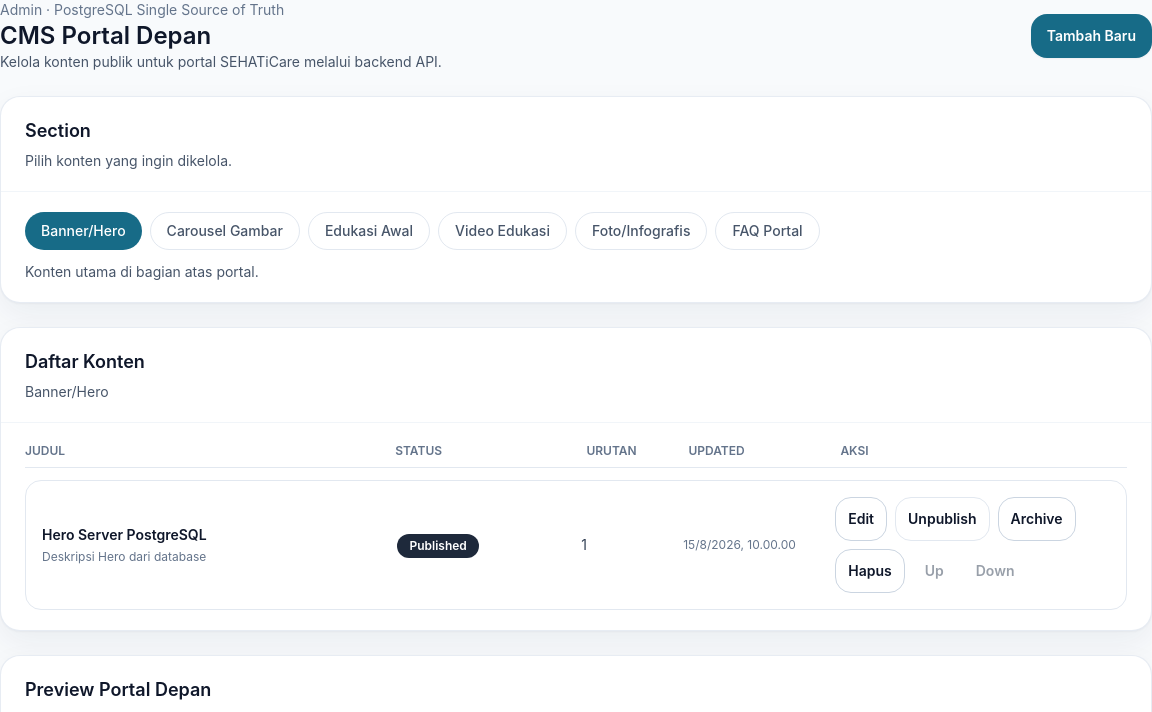
Test: AdminPortalPage Centralized CMS › creates new portal item through backend POST endpoint
Expected: the text "Hero Server PostgreSQL" is shown, [42,526,207,543]
# Click Tambah Baru
Click the button "Tambah Baru" at (1091, 36), box [1031,14,1151,58]
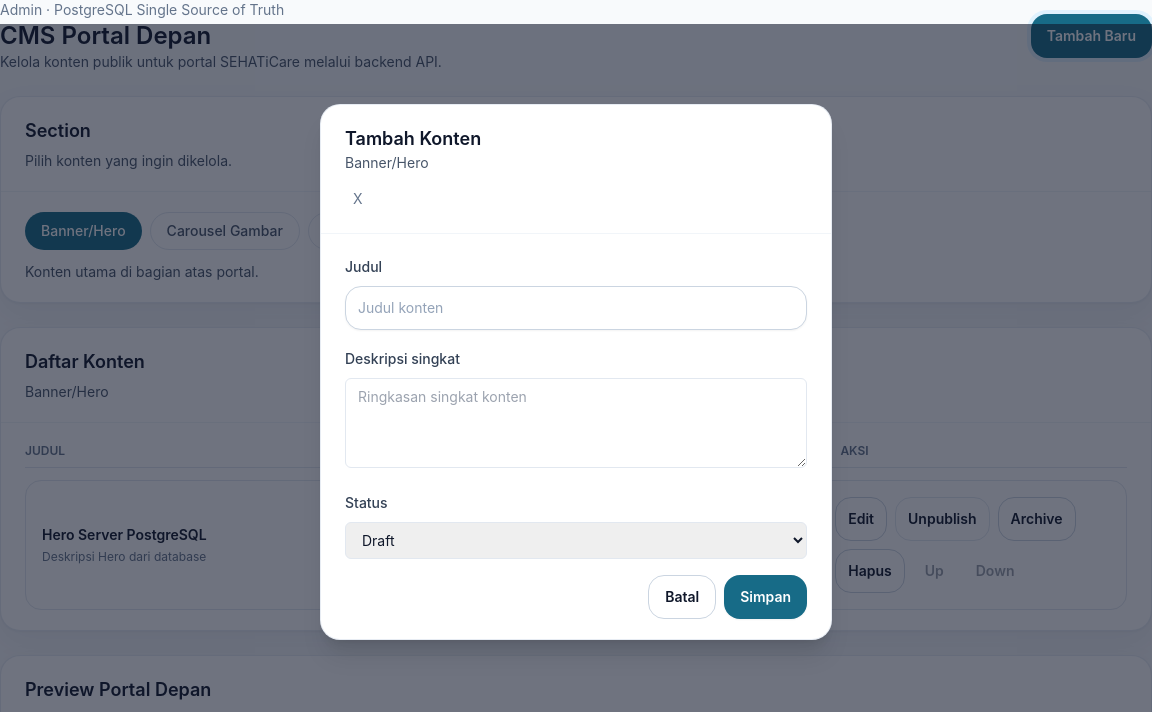
# Fill form
Type "Judul Baru Ditambahkan" into the field labelled "Judul" at (576, 308), box [345,286,807,330]
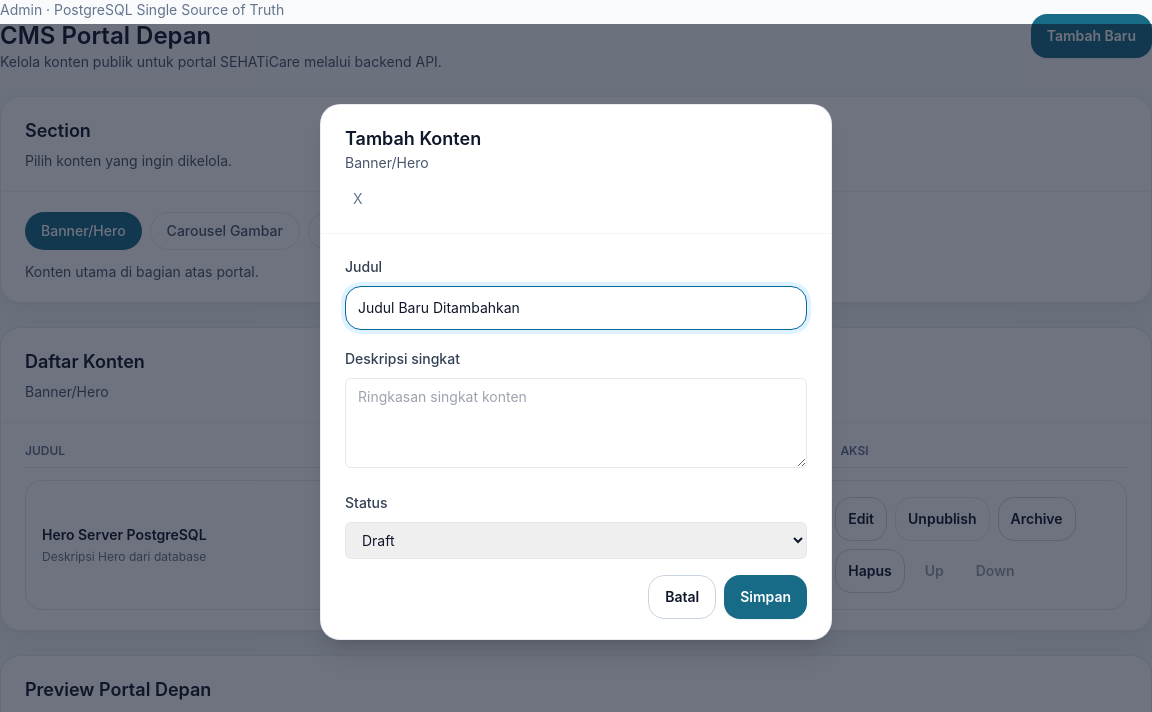
Type "Ringkasan baru" into the text box labelled "Deskripsi singkat" at (576, 423), box [345,378,807,468]
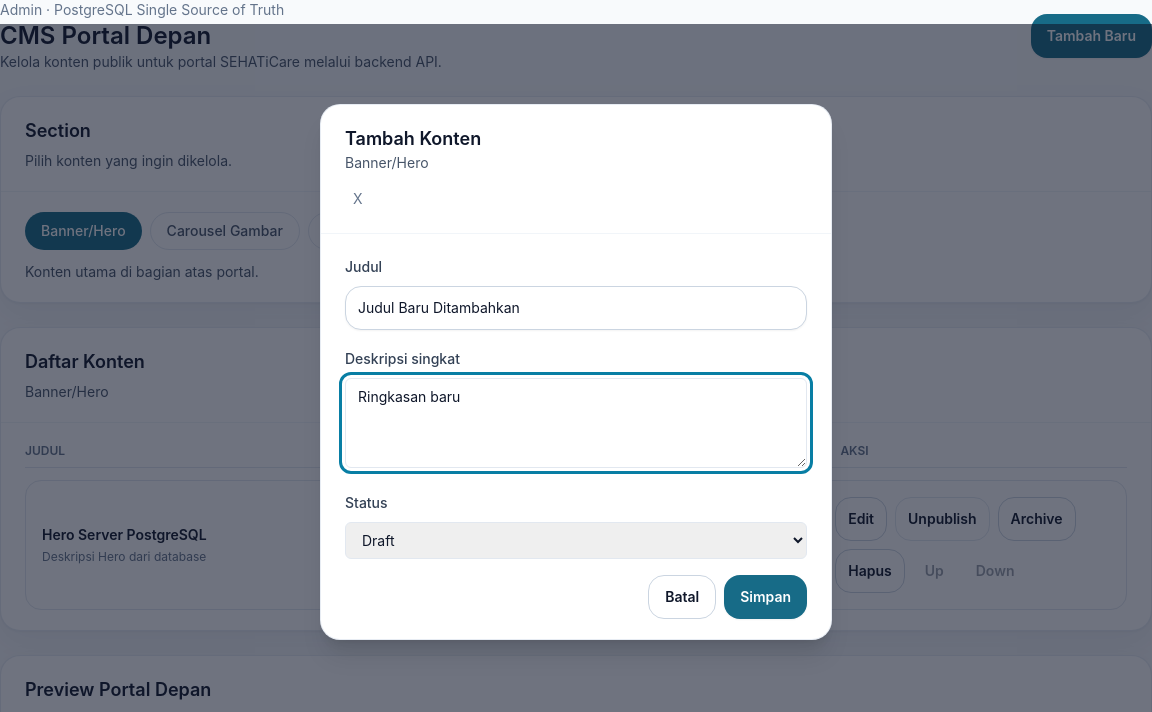
# Submit form
Click the button "Simpan" at (766, 597), box [724,575,807,619]
(page scrolled)
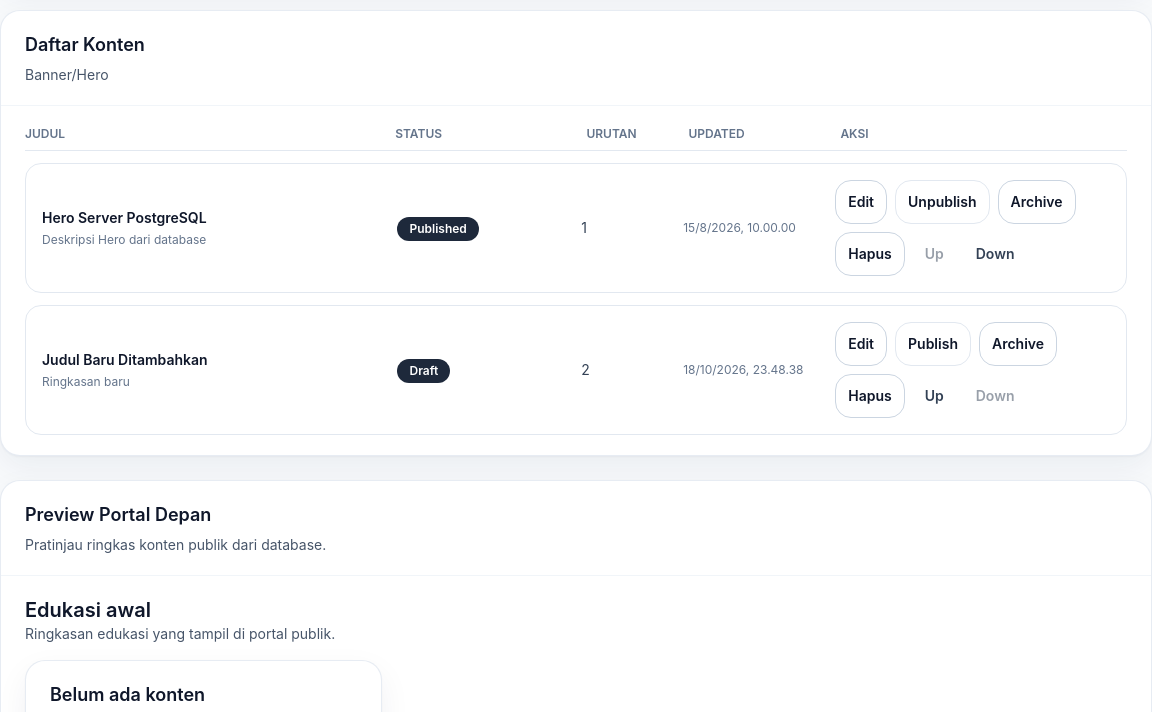
Expected: the text "Judul Baru Ditambahkan" is shown, [42,351,208,368]
